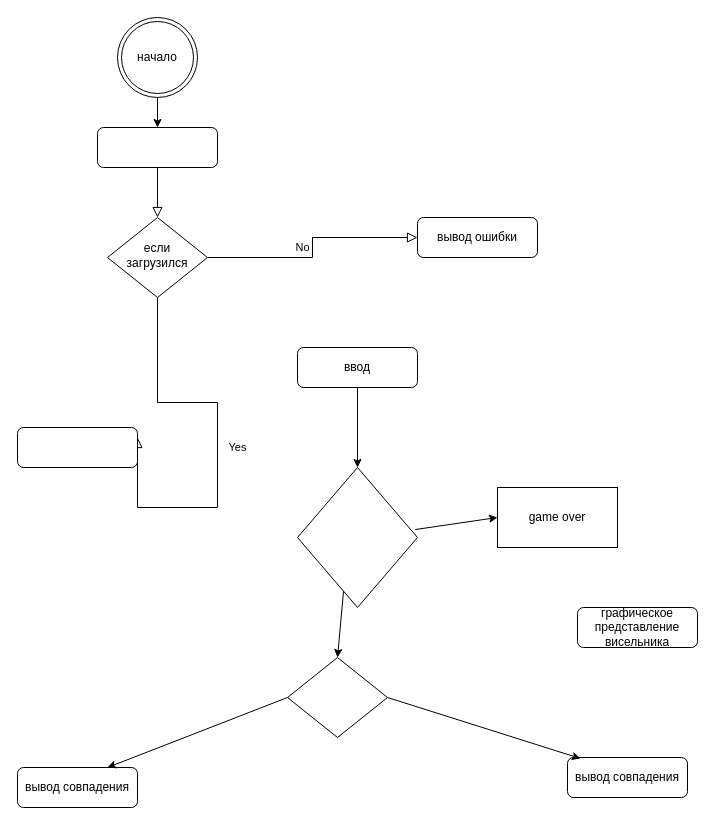
Some shapes in this 715 by 825 pixel diagram are drawn without their labels. The shapes that lost their labels are listed below. From the top down, each one's centre as x and y in pixels, then its label:
the point at 157,147: загрузка массива
the point at 77,447: рандом слова
the point at 357,537: количество попыток int i<1;
the point at 337,697: если совпал символ
